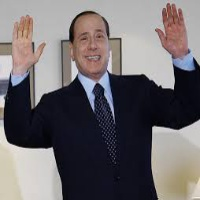ring: (171, 3, 180, 29), (18, 15, 23, 41)
